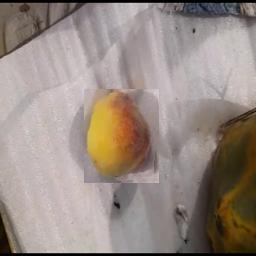Peach Semifresh: (84, 89, 159, 183)
